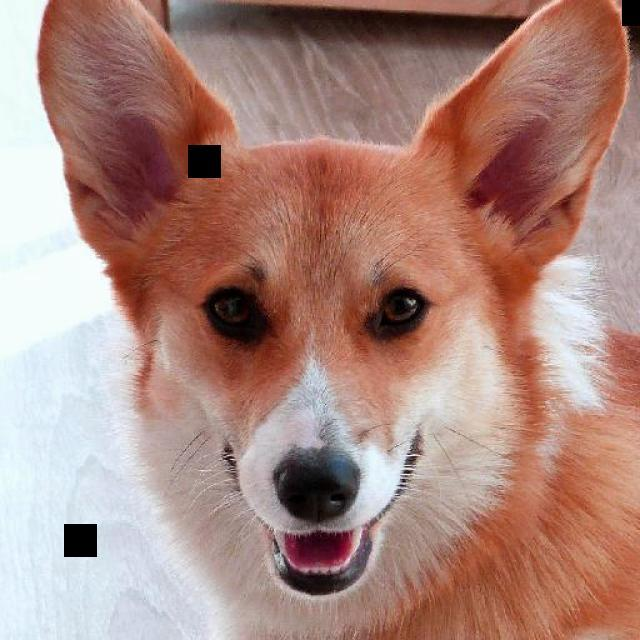adult_dog: (37, 1, 640, 636)
